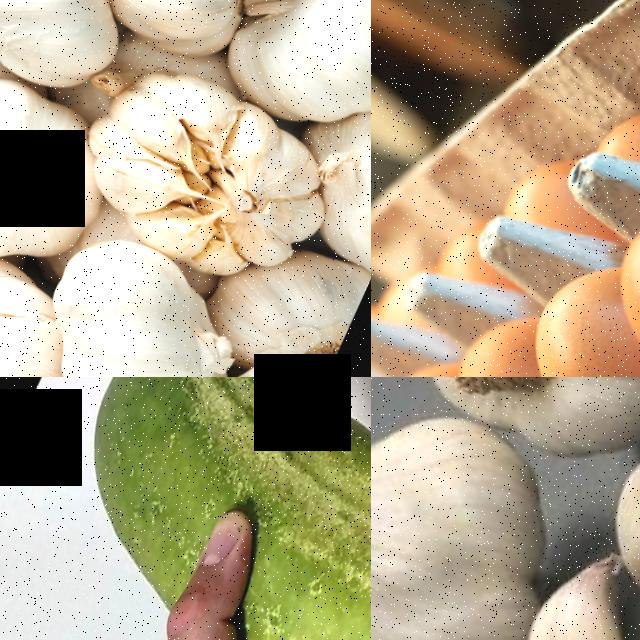cucumber: (37, 377, 371, 640)
egg_: (502, 301, 640, 377)
garlic: (69, 49, 346, 300), (371, 377, 599, 640), (16, 219, 263, 377), (371, 377, 640, 493), (0, 41, 120, 283), (214, 0, 371, 155), (0, 0, 149, 98), (497, 540, 640, 640), (68, 0, 275, 68), (0, 237, 97, 377), (589, 416, 640, 601)
